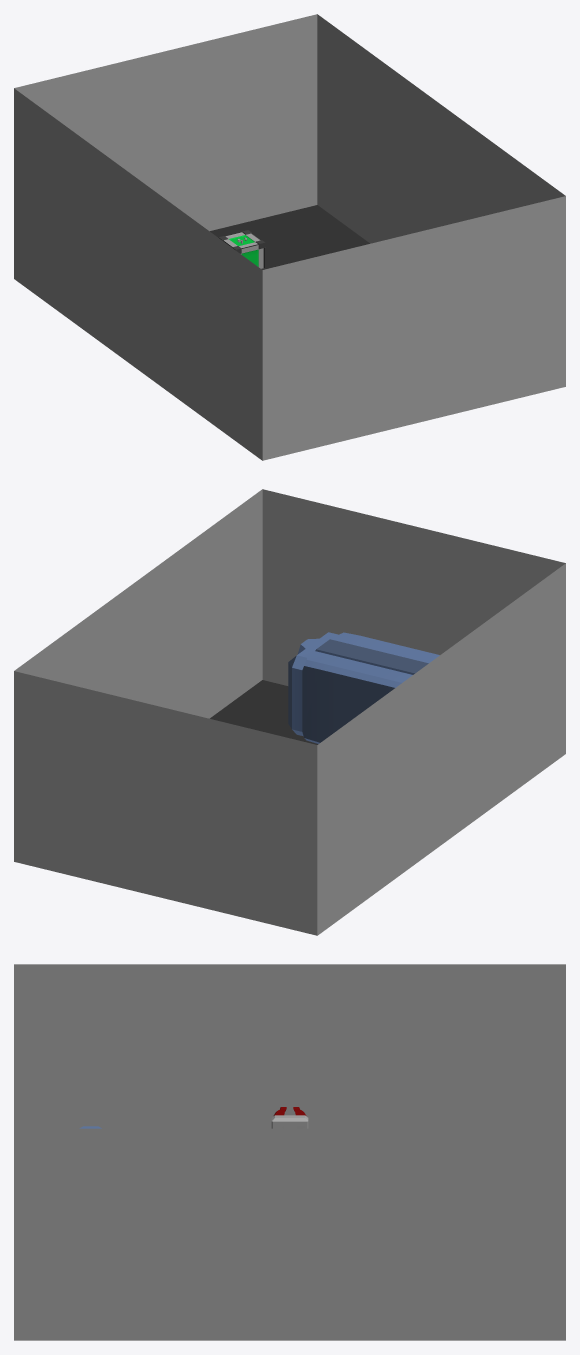
Rendered from CargoBay.fbx.
3 renders of one model, top to bottom at view 1: azimuth 30°, elevation 25°; view 2: azimuth 150°, elevation 25°; view 3: azimuth 270°, elevation 25°, orthographic. The views are drawn at different scales.
Visible parts, largest first — view 1: pCube1, pasted__pCube2; view 2: pCube1, pasted__pCube1; view 3: pCube1, pasted__pCube1.
Boxes of the visible parts, x1,y1,x2,y2 form: pCube1: [14, 14, 565, 460]; pasted__pCube2: [218, 230, 265, 269]; pCube1: [14, 489, 565, 935]; pasted__pCube1: [288, 632, 439, 743]; pCube1: [14, 964, 565, 1340]; pasted__pCube1: [271, 1107, 308, 1128].
Bounding box in the file's own units: 14.57 × 8.75 × 20.67.
